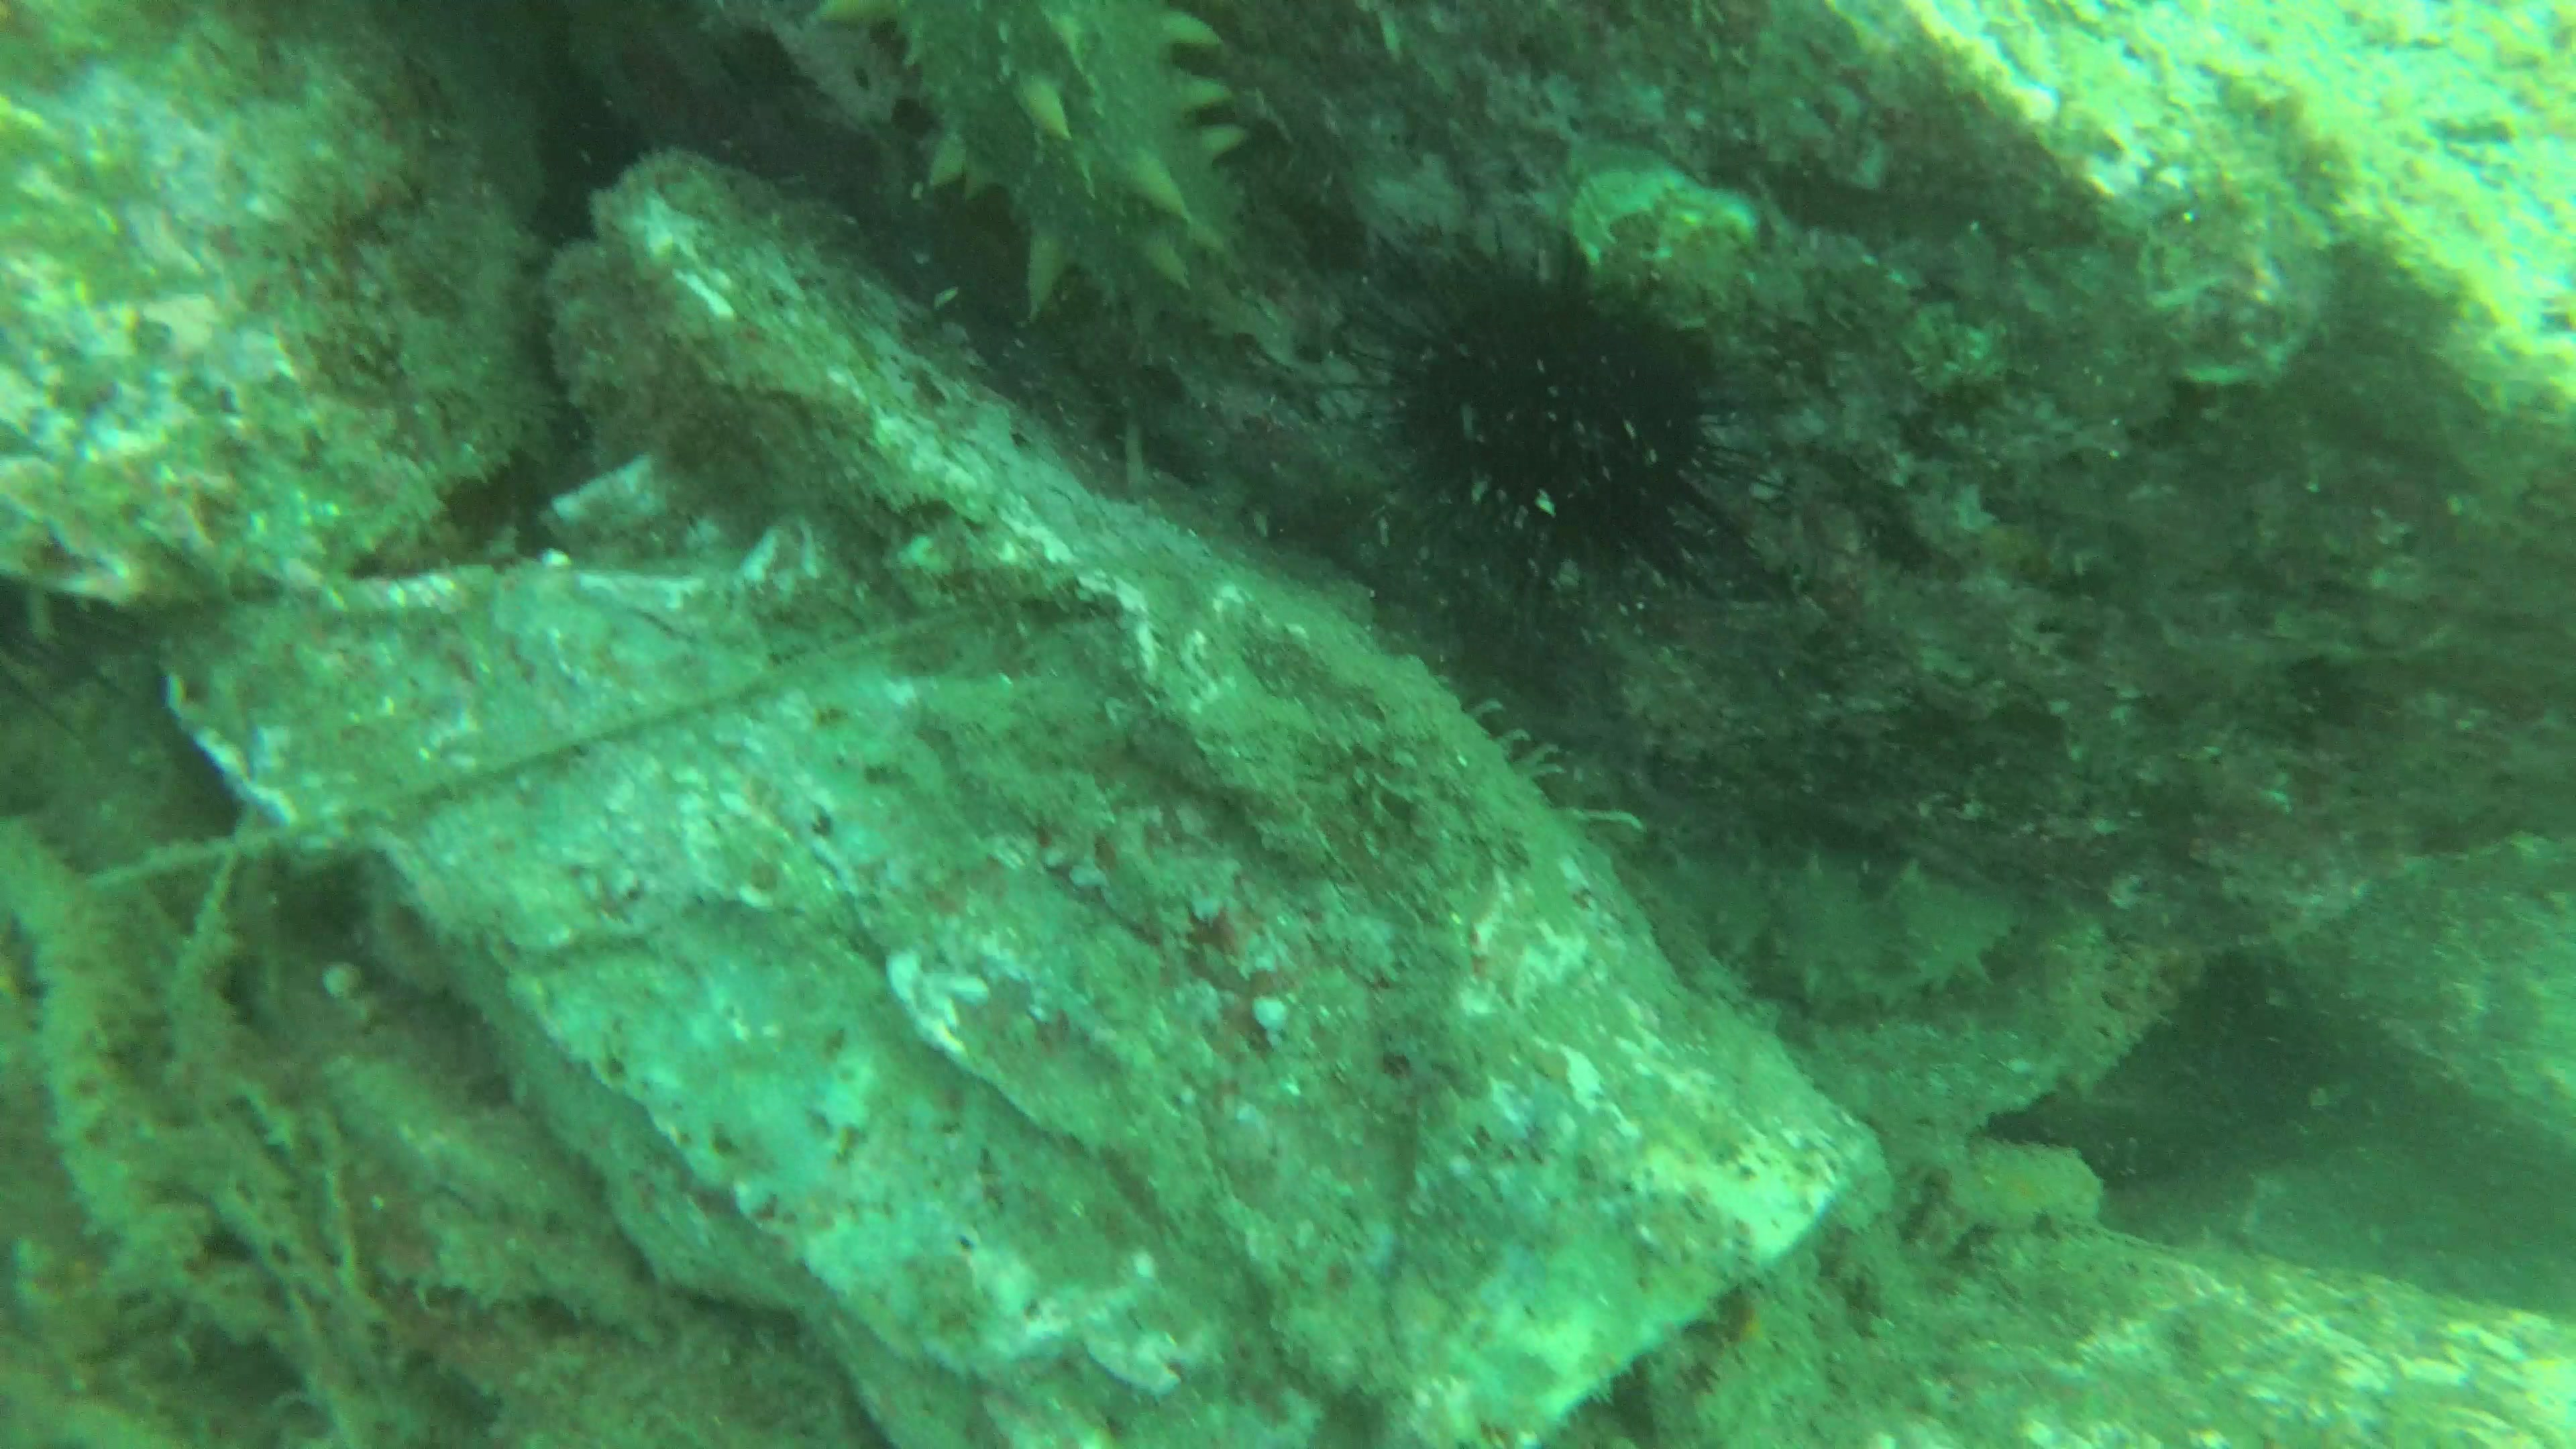echinus: (1325, 237, 1789, 648)
holothurian: (816, 0, 1260, 357), (1615, 828, 2035, 1019)
